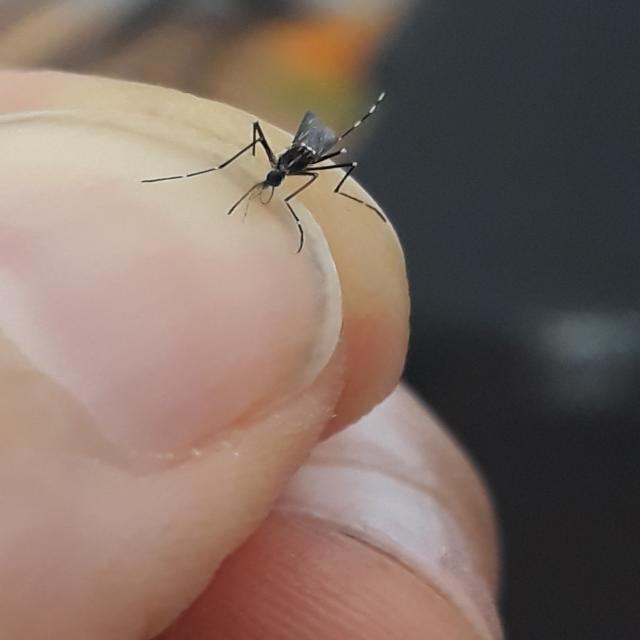albopictus: (147, 84, 406, 280)
